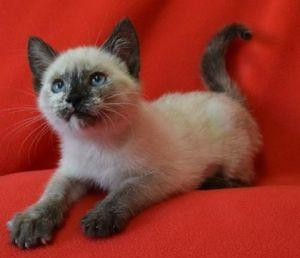siamese: (24, 12, 150, 145)
